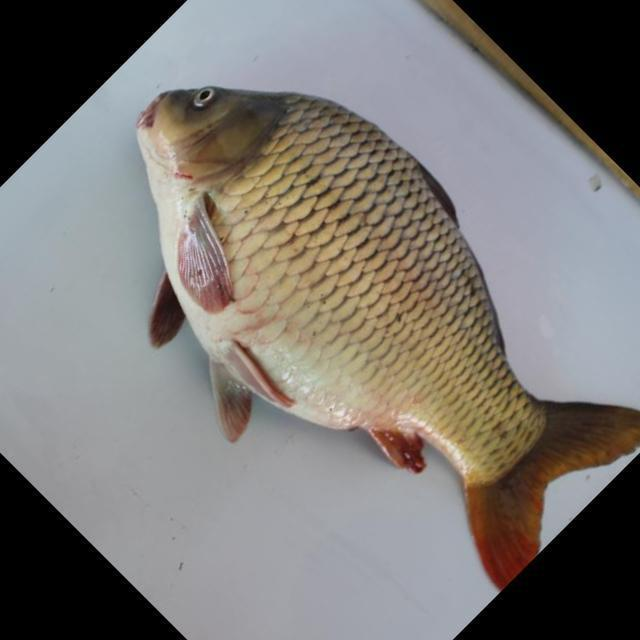Grass Carp: (139, 88, 640, 590)
